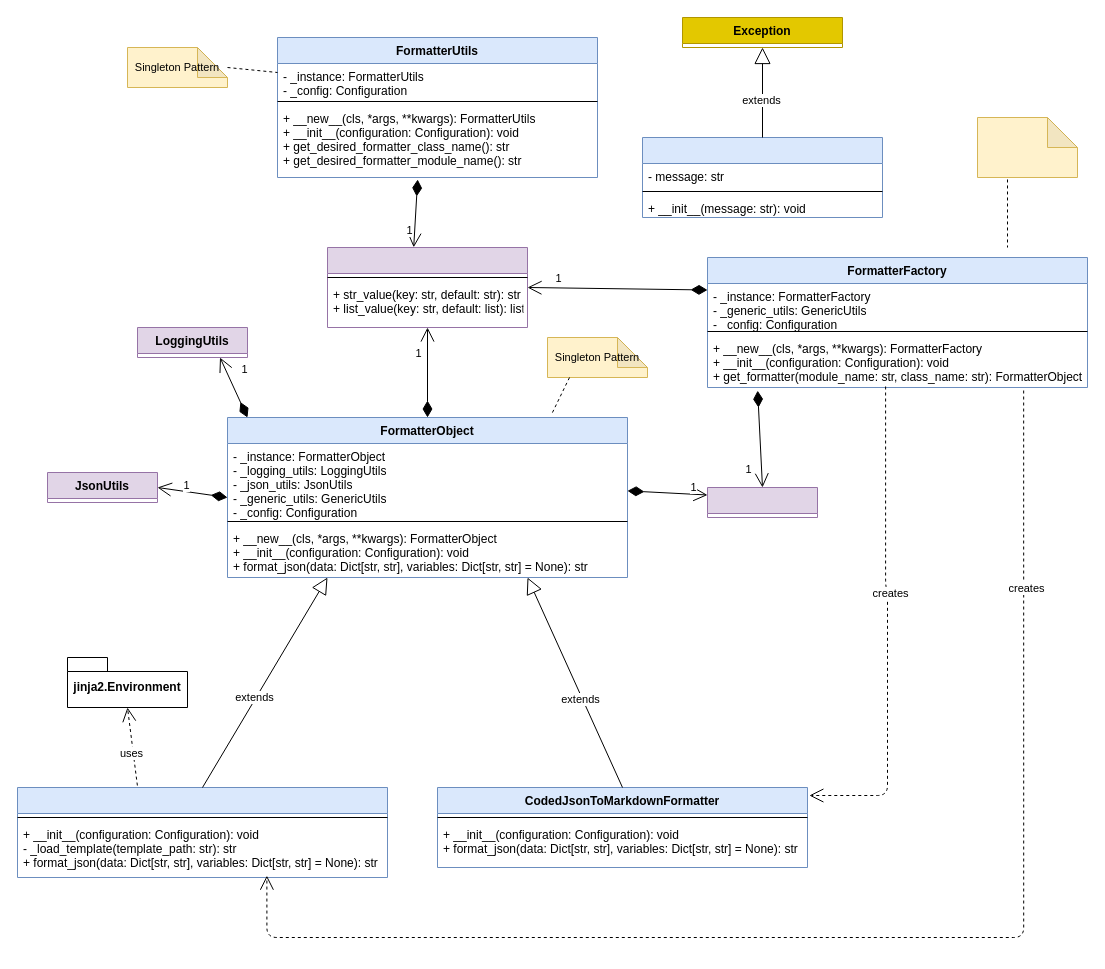
Some shapes in this 1105 by 969 pixel diagram are drawn without their labels. The box of each missing label's shape, as (x1, y1, x2, y2) in pixels:
Configuration: (326, 246, 528, 328)
FormatterError: (642, 136, 882, 218)
GenericUtils: (706, 486, 818, 518)
Jinja2JsonToMarkdownFormatter: (16, 786, 388, 878)
Singleton Pattern Factory Pattern: (976, 116, 1078, 178)
